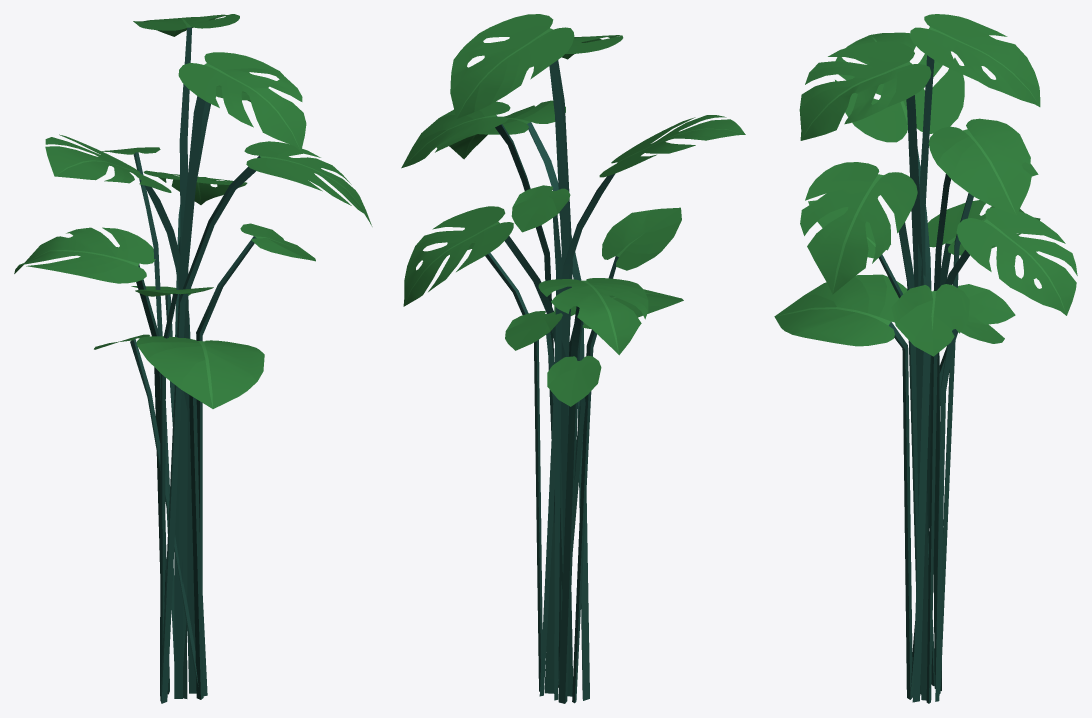
File: plant_monstera_A_pot.fbx
The picture shows the model from 3 angles, left to right: view 1: azimuth 30°, elevation 25°; view 2: azimuth 150°, elevation 25°; view 3: azimuth 270°, elevation 25°; orthographic projection.
Visible parts, largest first — view 1: plant_monstera_leaf_A_02, plant_monstera_leaf_A_07, plant_monstera_leaf_A_06, plant_monstera_leaf_A_10, plant_monstera_leaf_A_08, plant_monstera_leaf_A_03, plant_monstera_leaf_A_05, plant_monstera_leaf_A_14, plant_monstera_leaf_A_13, plant_monstera_leaf_A_18, plant_monstera_leaf_A_23, plant_monstera_leaf_A_11; view 2: plant_monstera_leaf_A_08, plant_monstera_leaf_A_10, plant_monstera_leaf_A_05, plant_monstera_leaf_A_13, plant_monstera_leaf_A_18, plant_monstera_leaf_A_11, plant_monstera_leaf_A_06, plant_monstera_leaf_A_03, plant_monstera_leaf_A_17, plant_monstera_leaf_A_02, plant_monstera_leaf_A_23, plant_monstera_leaf_A_14 (+1 smaller); view 3: plant_monstera_leaf_A_06, plant_monstera_leaf_A_02, plant_monstera_leaf_A_07, plant_monstera_leaf_A_11, plant_monstera_leaf_A_03, plant_monstera_leaf_A_08, plant_monstera_leaf_A_05, plant_monstera_leaf_A_14, plant_monstera_leaf_A_17, plant_monstera_leaf_A_10, plant_monstera_leaf_A_18, plant_monstera_leaf_A_13 (+1 smaller).
Part boxes in pixels (left/top/right/bottom): plant_monstera_leaf_A_02: left=178, top=52, right=306, bottom=693; plant_monstera_leaf_A_07: left=136, top=336, right=264, bottom=699; plant_monstera_leaf_A_06: left=160, top=141, right=372, bottom=703; plant_monstera_leaf_A_10: left=14, top=227, right=169, bottom=694; plant_monstera_leaf_A_08: left=133, top=14, right=239, bottom=665; plant_monstera_leaf_A_03: left=45, top=134, right=207, bottom=696; plant_monstera_leaf_A_05: left=143, top=170, right=247, bottom=698; plant_monstera_leaf_A_14: left=196, top=223, right=315, bottom=588; plant_monstera_leaf_A_13: left=135, top=287, right=213, bottom=695; plant_monstera_leaf_A_18: left=102, top=147, right=174, bottom=660; plant_monstera_leaf_A_23: left=94, top=334, right=198, bottom=686; plant_monstera_leaf_A_11: left=178, top=85, right=250, bottom=698; plant_monstera_leaf_A_08: left=450, top=14, right=574, bottom=619; plant_monstera_leaf_A_10: left=538, top=278, right=648, bottom=703; plant_monstera_leaf_A_05: left=403, top=206, right=572, bottom=696; plant_monstera_leaf_A_13: left=572, top=207, right=681, bottom=703; plant_monstera_leaf_A_18: left=511, top=185, right=570, bottom=700; plant_monstera_leaf_A_11: left=401, top=101, right=562, bottom=656; plant_monstera_leaf_A_06: left=449, top=100, right=589, bottom=700; plant_monstera_leaf_A_03: left=554, top=115, right=745, bottom=363; plant_monstera_leaf_A_17: left=505, top=311, right=562, bottom=696; plant_monstera_leaf_A_02: left=544, top=35, right=623, bottom=693; plant_monstera_leaf_A_23: left=547, top=355, right=601, bottom=684; plant_monstera_leaf_A_14: left=422, top=241, right=542, bottom=691; plant_monstera_leaf_A_06: left=800, top=162, right=918, bottom=591; plant_monstera_leaf_A_02: left=799, top=41, right=931, bottom=700; plant_monstera_leaf_A_07: left=774, top=274, right=912, bottom=699; plant_monstera_leaf_A_11: left=920, top=118, right=1031, bottom=694; plant_monstera_leaf_A_03: left=835, top=32, right=964, bottom=702; plant_monstera_leaf_A_08: left=910, top=14, right=1040, bottom=286; plant_monstera_leaf_A_05: left=928, top=207, right=1077, bottom=553; plant_monstera_leaf_A_14: left=891, top=284, right=969, bottom=703; plant_monstera_leaf_A_17: left=935, top=284, right=1015, bottom=701; plant_monstera_leaf_A_10: left=927, top=200, right=1040, bottom=690; plant_monstera_leaf_A_18: left=939, top=162, right=1038, bottom=693; plant_monstera_leaf_A_13: left=808, top=200, right=934, bottom=685.
Size of the model in its own units: 144 by 307 by 125.
